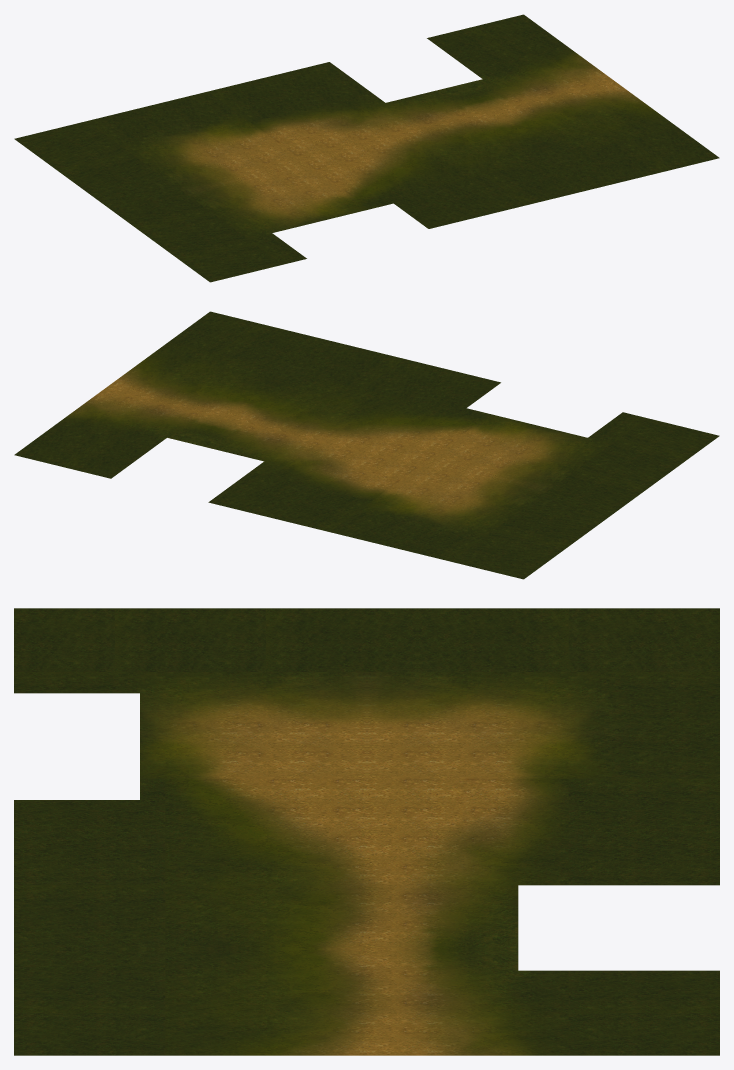
Rendered from Activities_Lumina_all.FBX.
3 views of the same model, one above another, from view 1: azimuth 30°, elevation 25°; view 2: azimuth 150°, elevation 25°; view 3: azimuth 270°, elevation 25° (orthographic). The views are drawn at different scales.
Visible parts, largest first — view 1: Activities_Lumina_all; view 2: Activities_Lumina_all; view 3: Activities_Lumina_all.
Part boxes in pixels (x1=…): Activities_Lumina_all: x1=14, y1=14, x2=719, y2=282; Activities_Lumina_all: x1=14, y1=311, x2=719, y2=579; Activities_Lumina_all: x1=14, y1=608, x2=719, y2=1055.
Size of the model in its own units: 84 by 1.59e-14 by 56.
